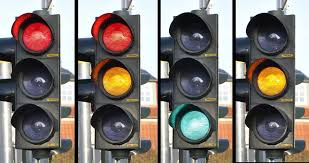amber: (244, 12, 297, 150), (251, 18, 290, 146)
